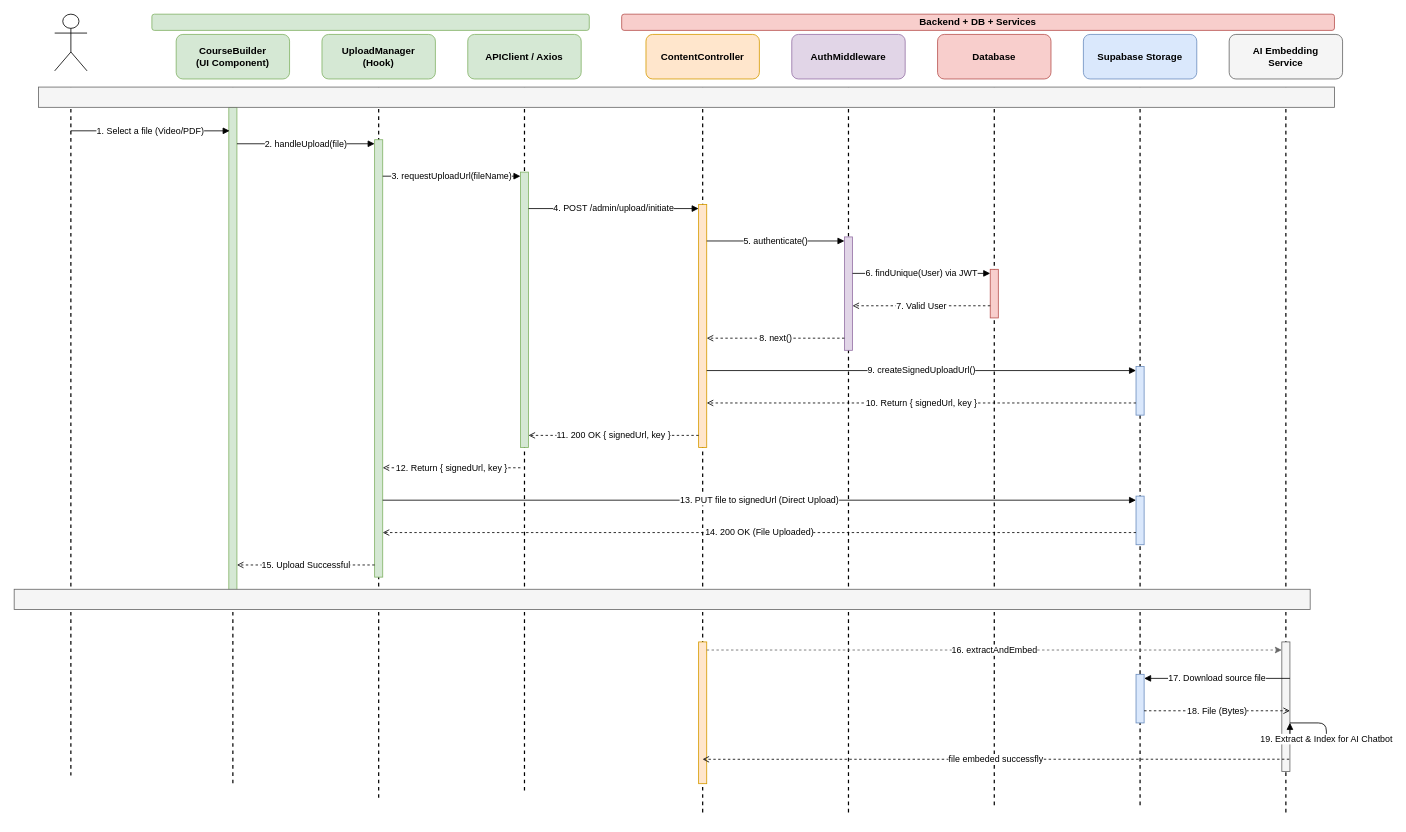
Some shapes in this 1406 by 832 pixel diagram are drawn without their labels. Each missing label, with the centre of its shape:
"Frontend" belongs at (x=370, y=21).
"Instructor" belongs at (x=70, y=42).
"Phase 1 — Upload Initialization" belongs at (x=686, y=96).
"Phase 2 — Embeddings" belongs at (x=661, y=599).
